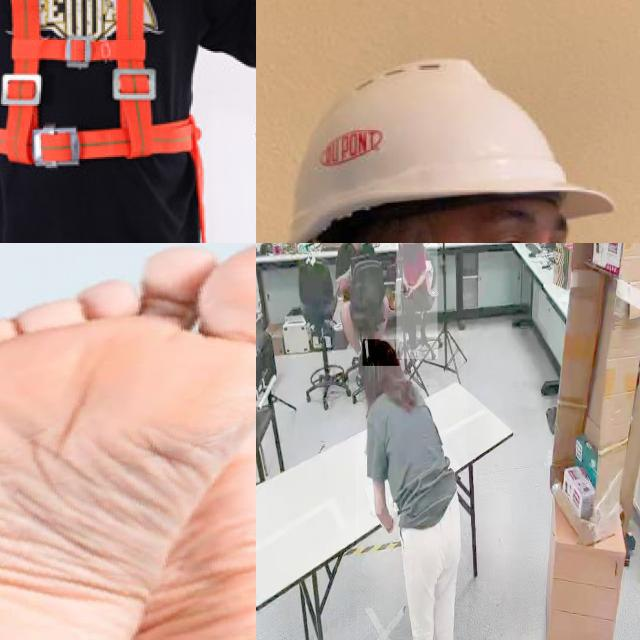Barefoots: (0, 243, 256, 640), (0, 269, 256, 640)
Harness: (0, 0, 216, 243)
No_Glasses: (456, 196, 588, 243)
hand_noglove: (404, 283, 414, 300), (402, 282, 410, 294)
head_nohelmet: (362, 339, 400, 367)
person: (356, 331, 468, 640), (335, 243, 392, 348), (396, 243, 437, 358)
